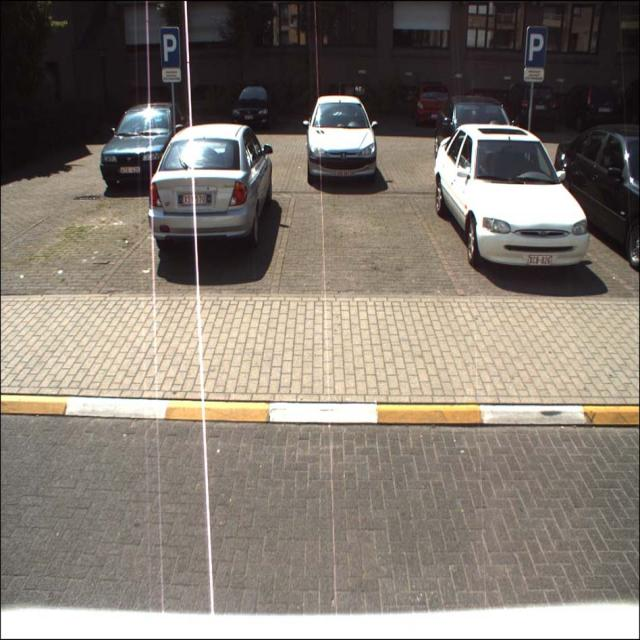park: (525, 26, 548, 68), (160, 27, 180, 68)
